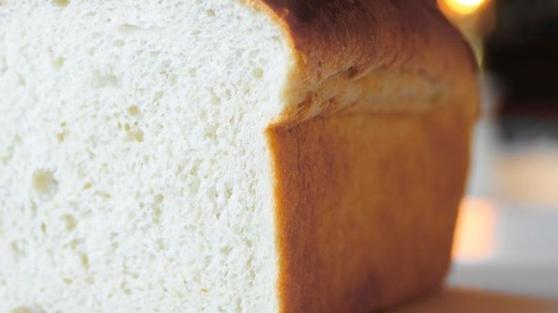white_bread: (5, 1, 472, 307)
